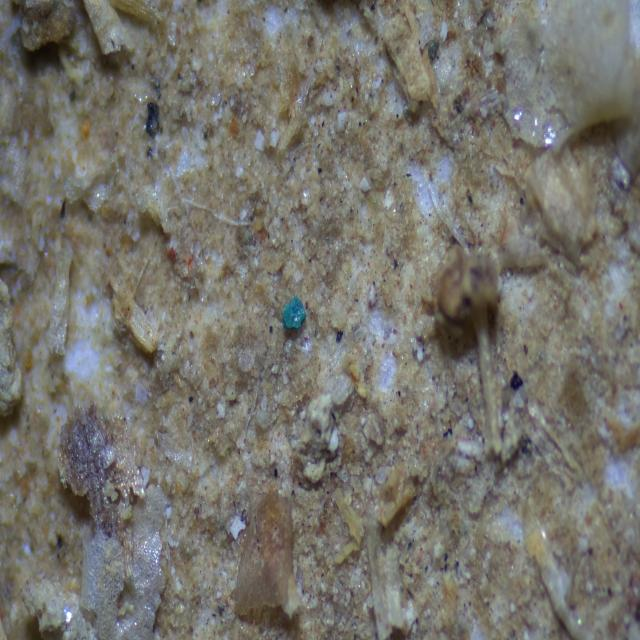microplastic: (277, 296, 311, 336)
